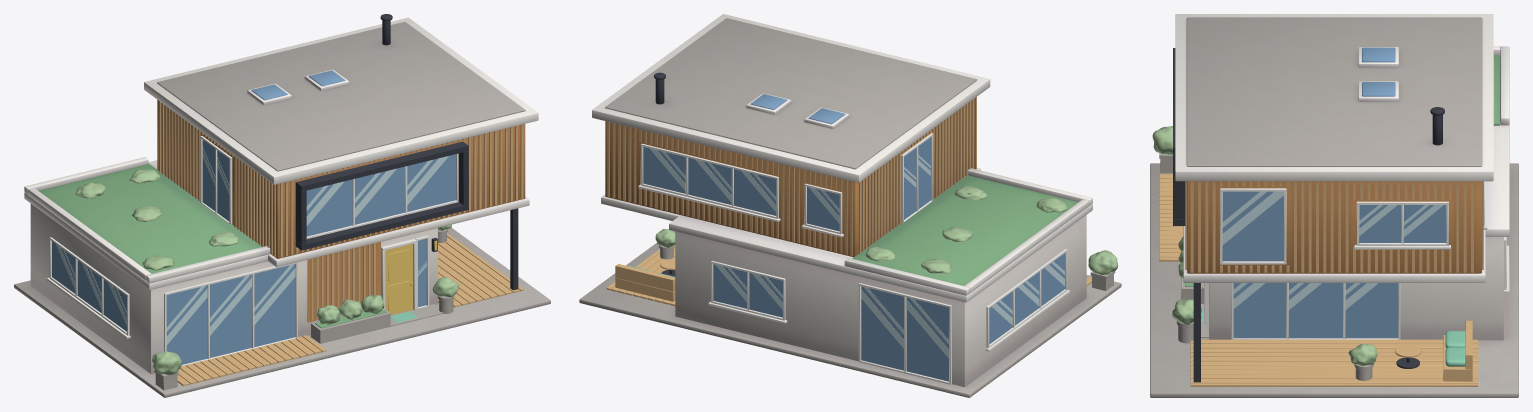
Rendered from modern-house.glb.
The picture shows the model from 3 angles, left to right: view 1: azimuth 30°, elevation 25°; view 2: azimuth 150°, elevation 25°; view 3: azimuth 270°, elevation 25°; orthographic projection. The views are drawn at different scales.
Visible parts, largest first — view 1: modern-house_body, modern-house_details, modern-house_glints, modern-house_plants, modern-house_door_l, modern-house_frame; view 2: modern-house_body, modern-house_details, modern-house_glints, modern-house_plants; view 3: modern-house_body, modern-house_details, modern-house_glints, modern-house_plants, modern-house.
Boxes of the visible parts, x1,y1,x2,y2 form: modern-house_body: (14,14,550,397); modern-house_details: (46,136,523,390); modern-house_glints: (56,147,448,345); modern-house_plants: (75,169,458,375); modern-house_door_l: (385,244,412,314); modern-house_frame: (381,239,416,310); modern-house_body: (579,14,1121,397); modern-house_details: (606,133,1115,384); modern-house_glints: (649,148,1064,358); modern-house_plants: (655,186,1118,274); modern-house_body: (1150,14,1518,397); modern-house_details: (1159,48,1509,386); modern-house_glints: (1222,191,1443,309); modern-house_plants: (1152,126,1377,366); modern-house: (1445,330,1465,366).
Bounding box in the file's own units: 14.92 × 7.8 × 10.
Materials: 15 (1 with a texture image).
